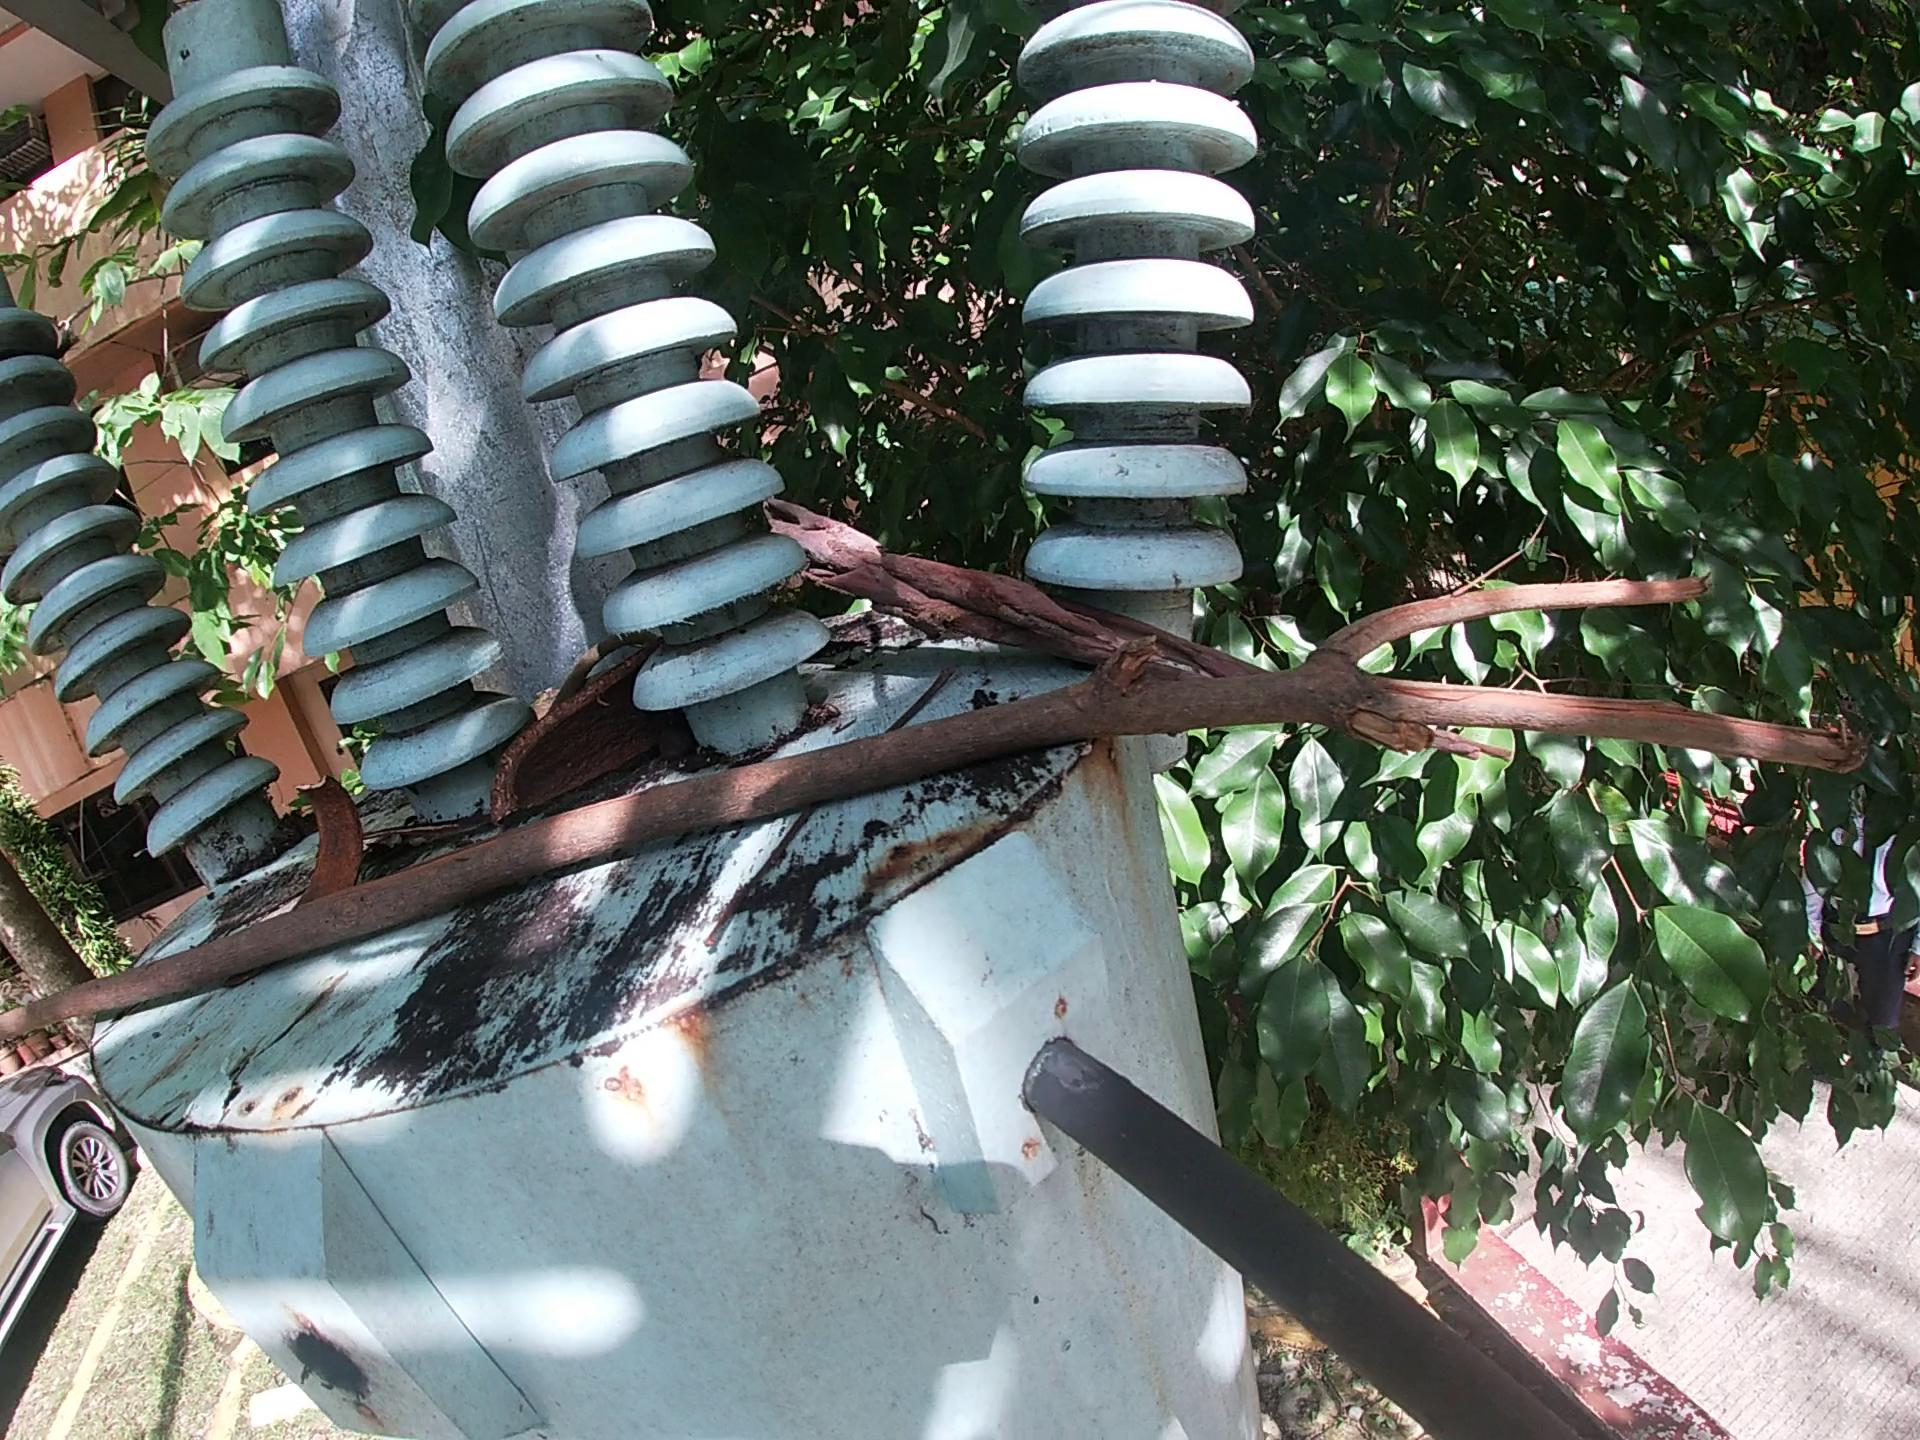mahogany fruit: (482, 656, 673, 836), (286, 796, 373, 906)
tree branch: (2, 569, 1869, 1207), (760, 495, 1243, 682), (685, 799, 824, 957), (532, 632, 612, 723), (364, 818, 469, 879), (875, 663, 969, 729)
